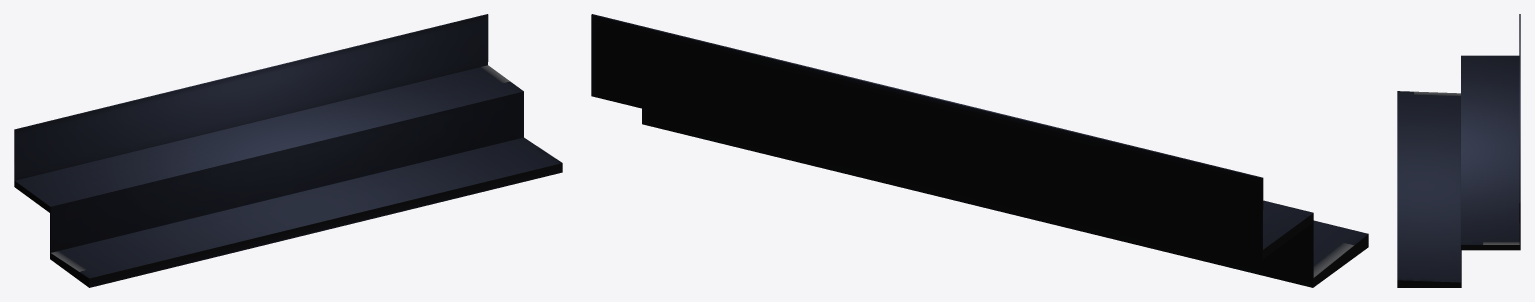
Rendered from seats.dae.
3 renders of one model, left to right at view 1: azimuth 30°, elevation 25°; view 2: azimuth 150°, elevation 25°; view 3: azimuth 270°, elevation 25°, orthographic. The views are drawn at different scales.
Visible parts, largest first — view 1: Plane; view 2: Plane; view 3: Plane.
Boxes of the visible parts, x1,y1,x2,y2 form: Plane: (14,14,562,287); Plane: (591,14,1368,287); Plane: (1397,14,1520,287).
Size of the model in its own units: 2 by 0.5498 by 0.4178.
1 material, 1 textured.
